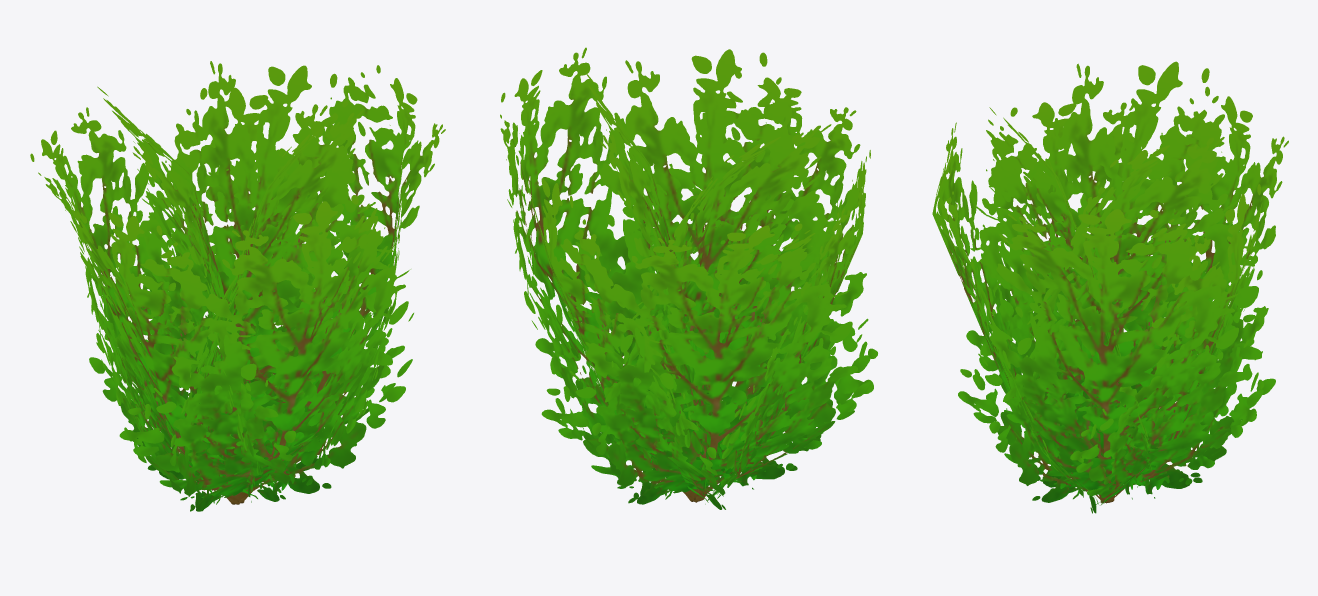
File: Custom_Grass2.fbx
3 renders of one model, left to right at view 1: azimuth 30°, elevation 25°; view 2: azimuth 150°, elevation 25°; view 3: azimuth 270°, elevation 25°, orthographic. The views are drawn at different scales.
Parts seen in each view (by area): view 1: Bush_A; view 2: Bush_A; view 3: Bush_A.
Boxes of the visible parts, <box> form: Bush_A: <box>30,61,445,511</box>; Bush_A: <box>500,47,877,509</box>; Bush_A: <box>932,61,1288,513</box>.
Bounding box in the file's own units: 205 × 243 × 194.
